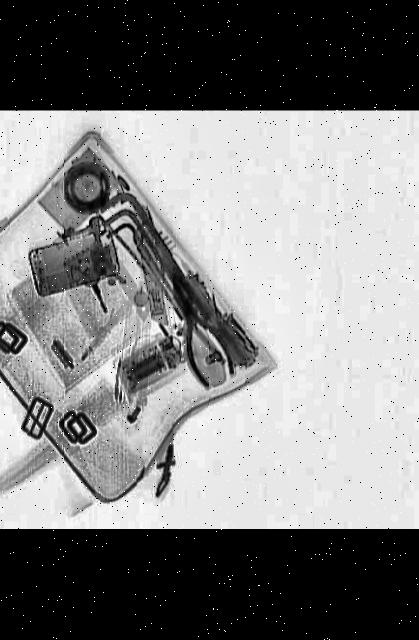Pliers: (159, 290, 244, 389)
